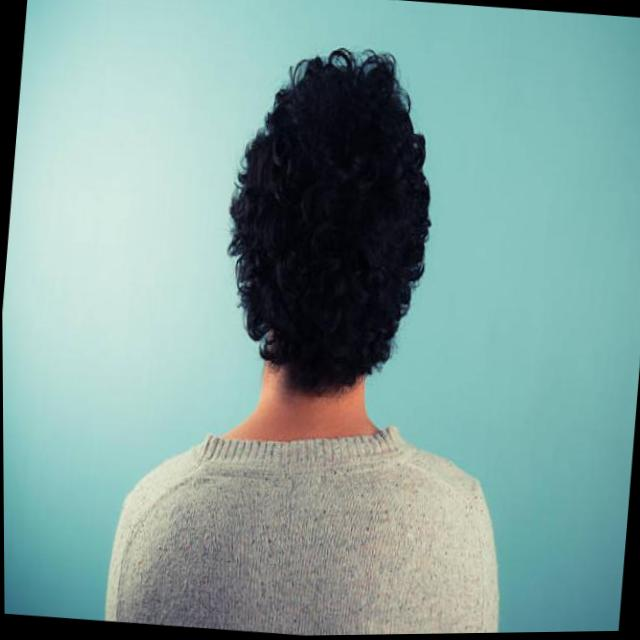no helmet: (205, 47, 448, 403)
